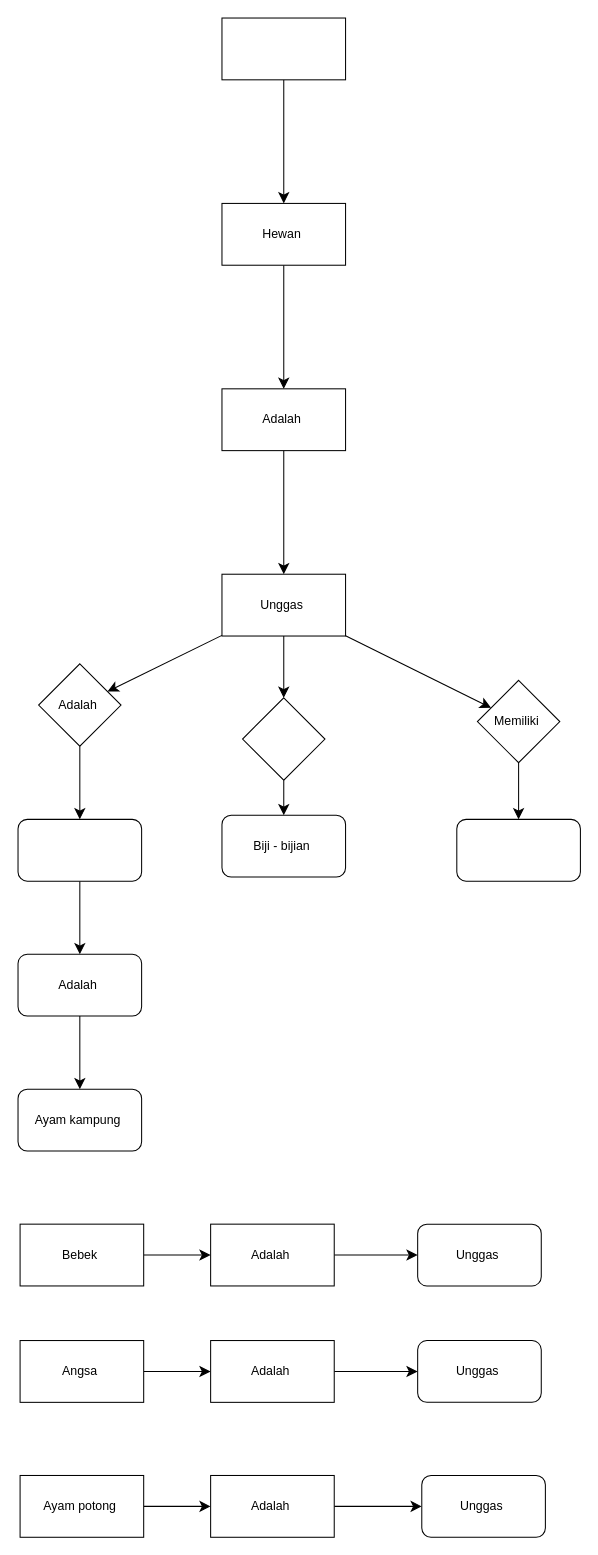
Some shapes in this 598 by 1555 pixel diagram are drawn without their labels. The box of each missing label's shape, as (x1, y1, x2, y2) in pixels:
Ayam: (17, 818, 142, 881)
Makan: (242, 697, 325, 780)
Makhluk hidup: (221, 17, 346, 80)
Sayap: (456, 818, 580, 881)
